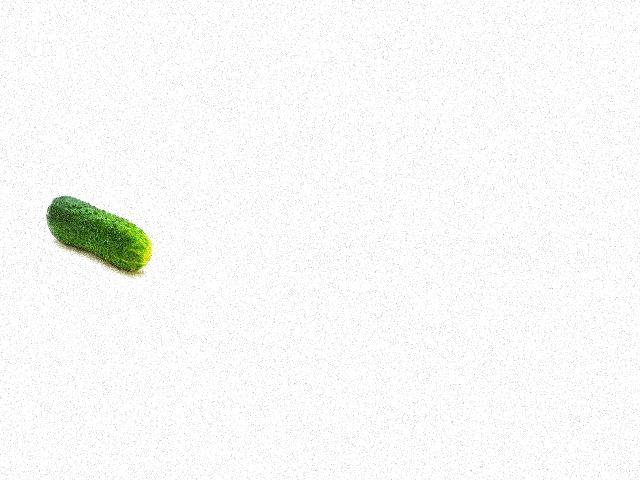cucumber: (46, 195, 152, 270)
